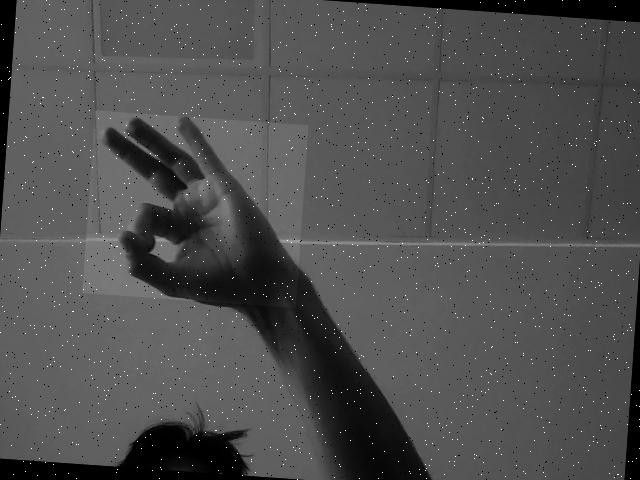OK: (93, 117, 299, 303)
